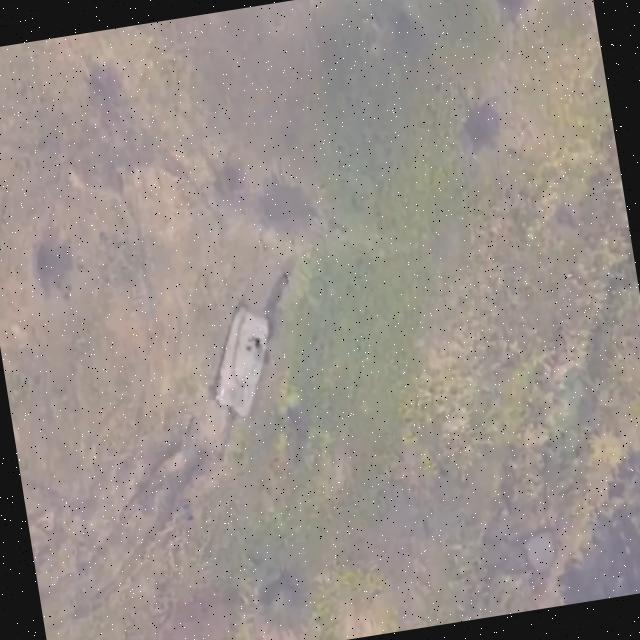MBT: (203, 299, 287, 428)
